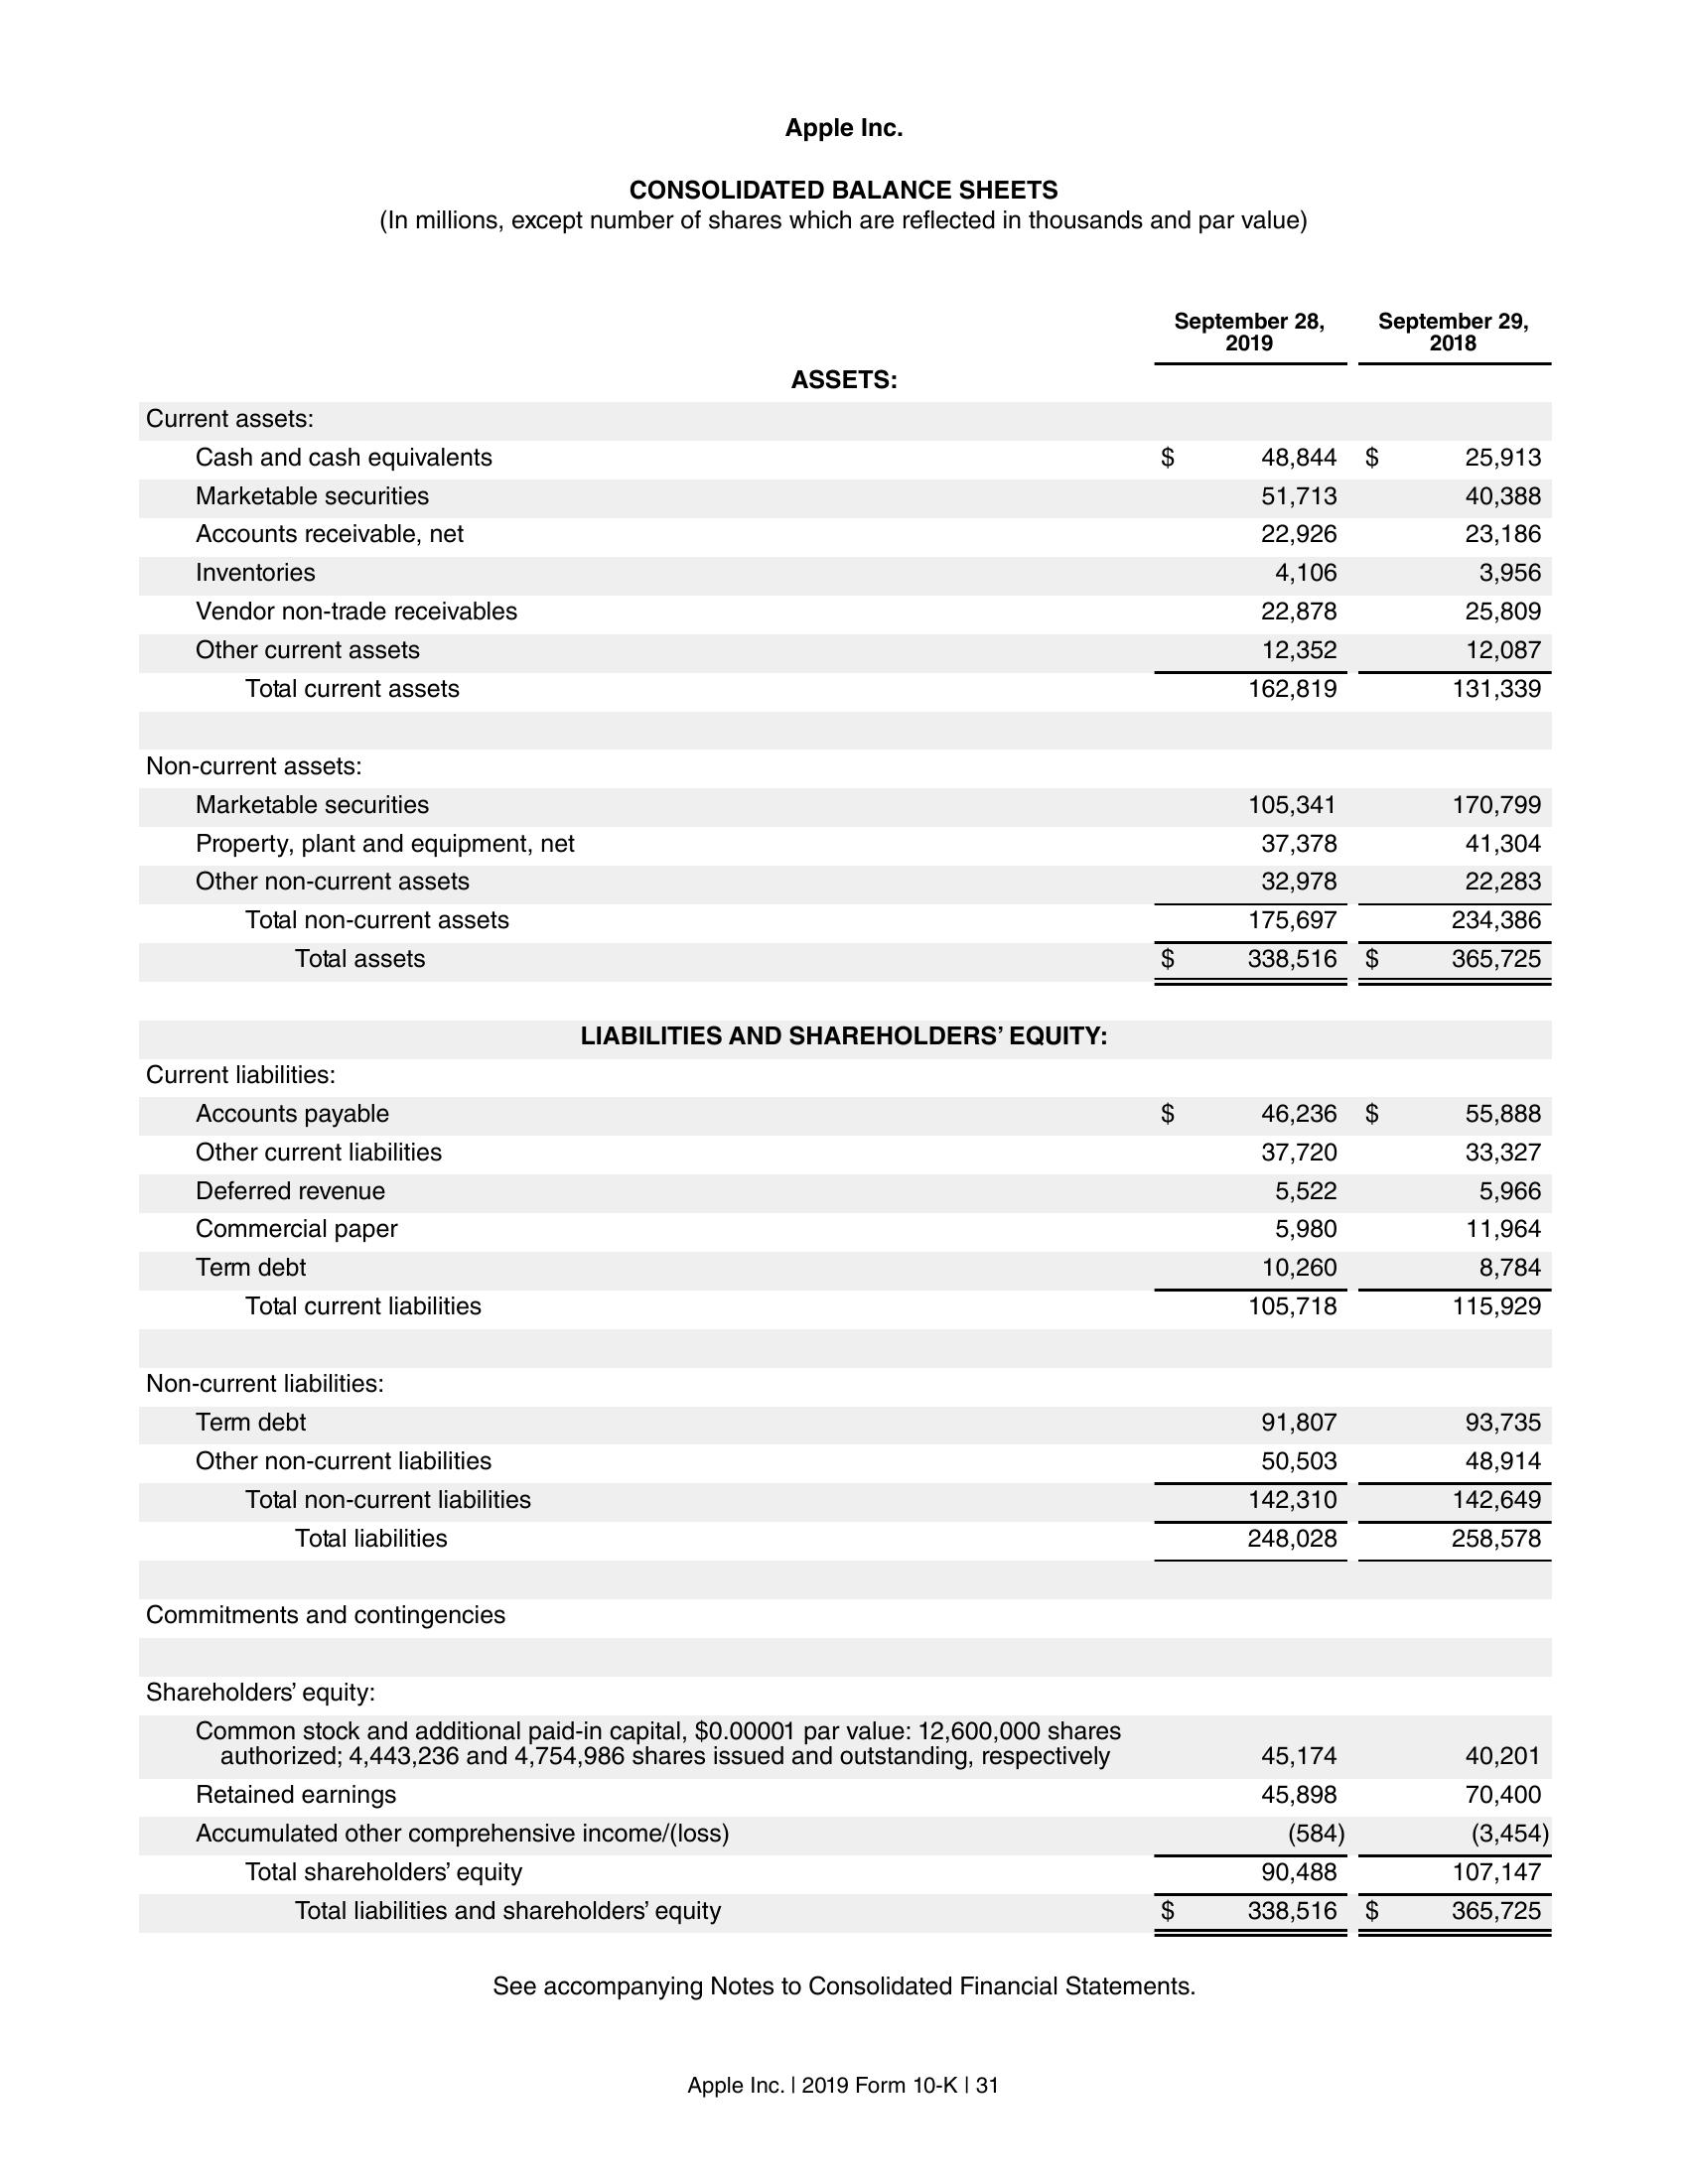table: (138, 303, 1559, 1945)
